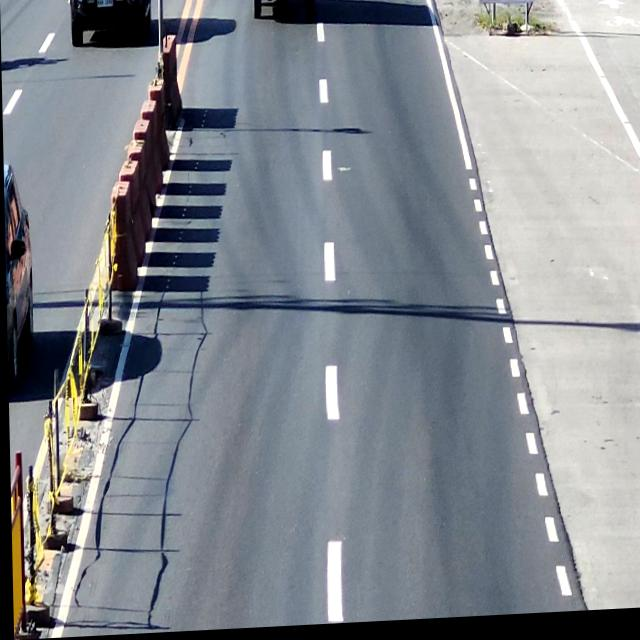License-Plate: (96, 0, 115, 13)
